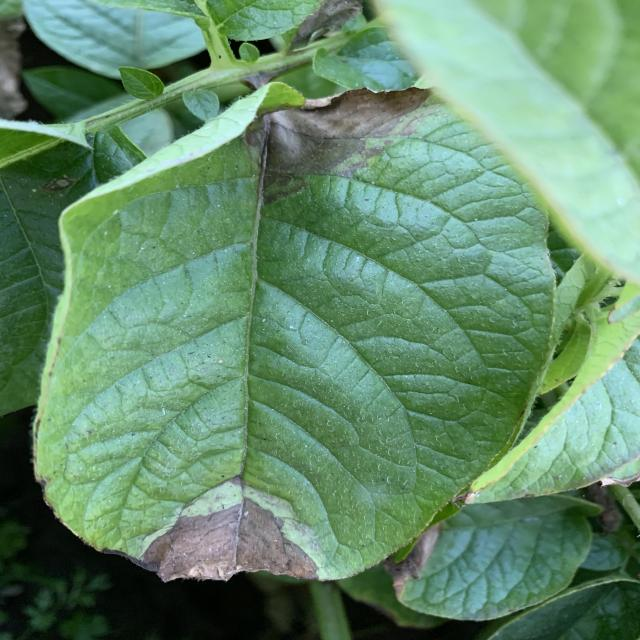lateblight: (263, 89, 428, 205), (142, 499, 317, 581)
